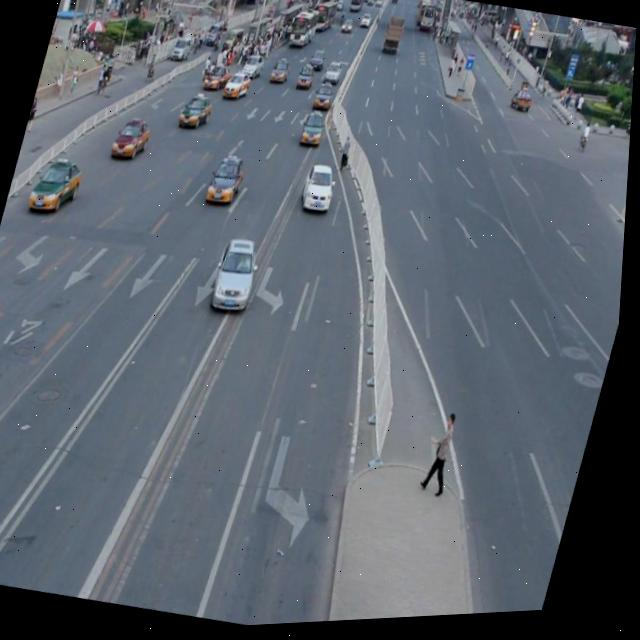car: (209, 234, 268, 318), (26, 153, 88, 220), (205, 152, 250, 211), (298, 161, 342, 219), (108, 114, 156, 167), (176, 91, 217, 134), (298, 110, 329, 152)
